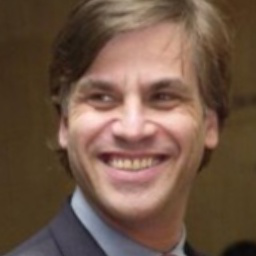Person: (12, 1, 244, 256)
